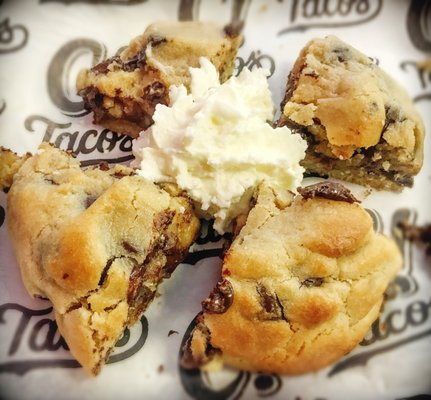soup: (2, 141, 201, 378), (276, 33, 427, 193)
